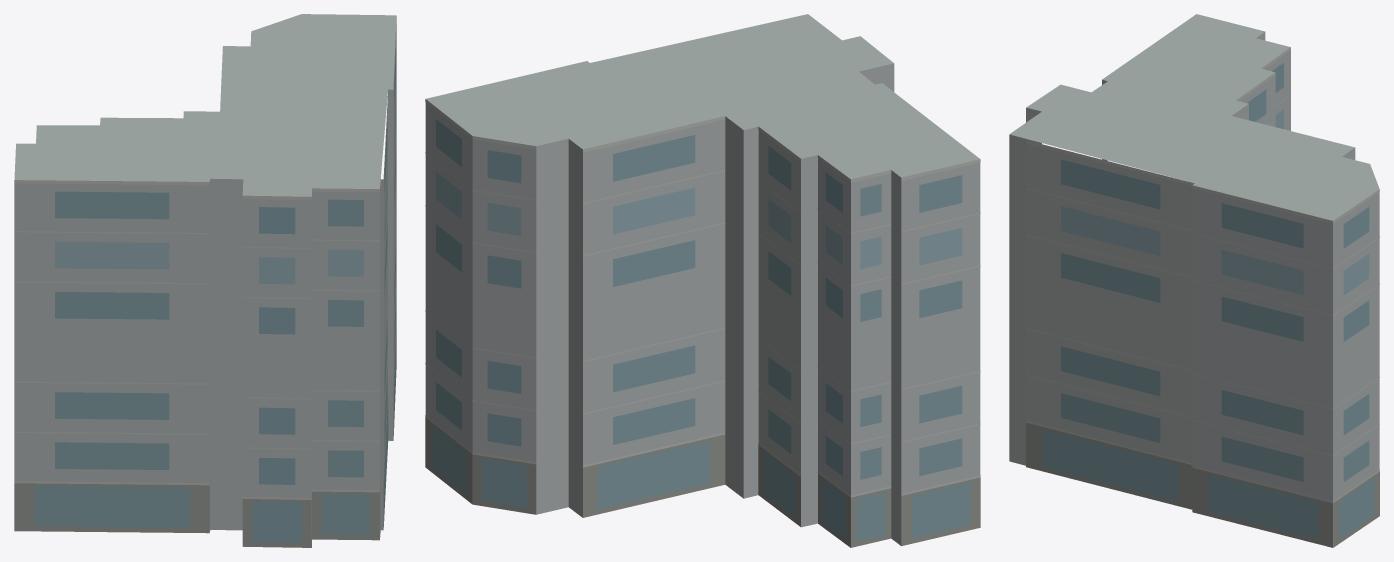
File: survey-upis-32672162.glb
3 renders of one model, left to right at view 1: azimuth 30°, elevation 25°; view 2: azimuth 150°, elevation 25°; view 3: azimuth 270°, elevation 25°, orthographic. The views are drawn at different scales.
Visible parts, largest first — view 1: survey-upis-32672162.tmp; view 2: survey-upis-32672162.tmp; view 3: survey-upis-32672162.tmp.
Part boxes in pixels (x1,y1,x2,y2): survey-upis-32672162.tmp: (14,14,396,547); survey-upis-32672162.tmp: (425,14,980,547); survey-upis-32672162.tmp: (1009,14,1379,547).
Bounding box in the file's own units: 34.63 × 25.5 × 26.22.
